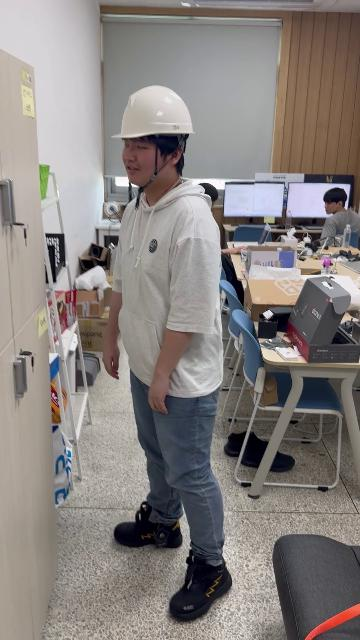helmet_worn: (114, 83, 195, 149)
shoe_not_worn: (238, 437, 293, 470), (224, 429, 254, 457)
shoe_worn: (170, 553, 232, 621), (114, 500, 183, 547)
vest_not_worn: (109, 189, 226, 397)
